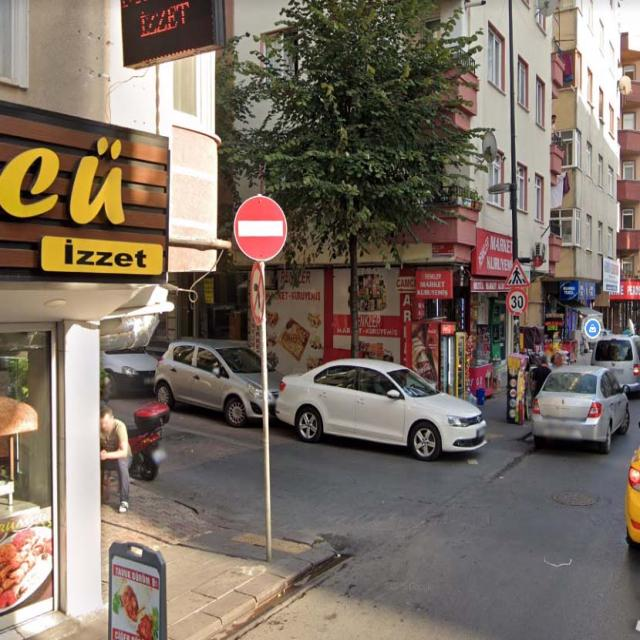30: (506, 291, 526, 315)
girisyok: (234, 194, 288, 259)
soladonulmez: (248, 262, 266, 324)
